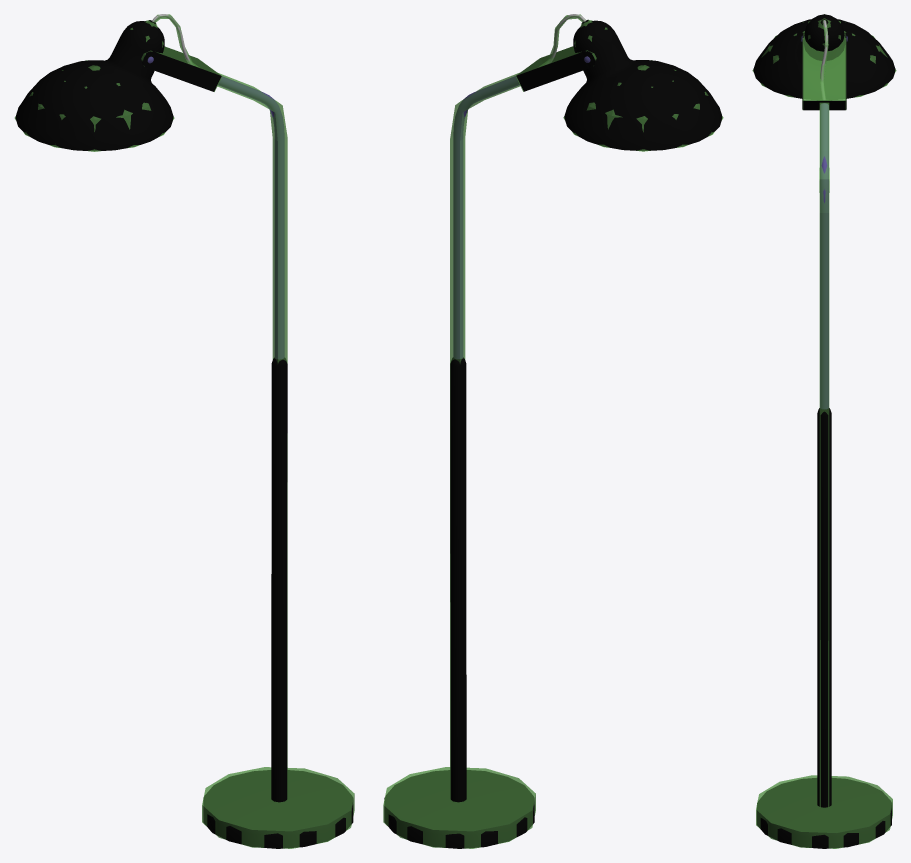
Rendered from StandingLamp_01_Mesh.fbx.
3 views of the same model, side by side, from view 1: azimuth 30°, elevation 25°; view 2: azimuth 150°, elevation 25°; view 3: azimuth 270°, elevation 25° (orthographic). The views are drawn at different scales.
Parts seen in each view (by area): view 1: StandingLamp_01_LOD0, StandingLamp_01_col; view 2: StandingLamp_01_LOD0, StandingLamp_01_col; view 3: StandingLamp_01_LOD0, StandingLamp_01_col.
Boxes of the visible parts, x1=… form: StandingLamp_01_LOD0: x1=15, y1=14, x2=353, y2=848; StandingLamp_01_col: x1=14, y1=14, x2=354, y2=848; StandingLamp_01_LOD0: x1=384, y1=14, x2=722, y2=848; StandingLamp_01_col: x1=383, y1=14, x2=723, y2=848; StandingLamp_01_LOD0: x1=753, y1=14, x2=895, y2=848; StandingLamp_01_col: x1=752, y1=14, x2=896, y2=848.
Size of what is drawn, in the model's own units: 72.78 by 181 by 31.64.
